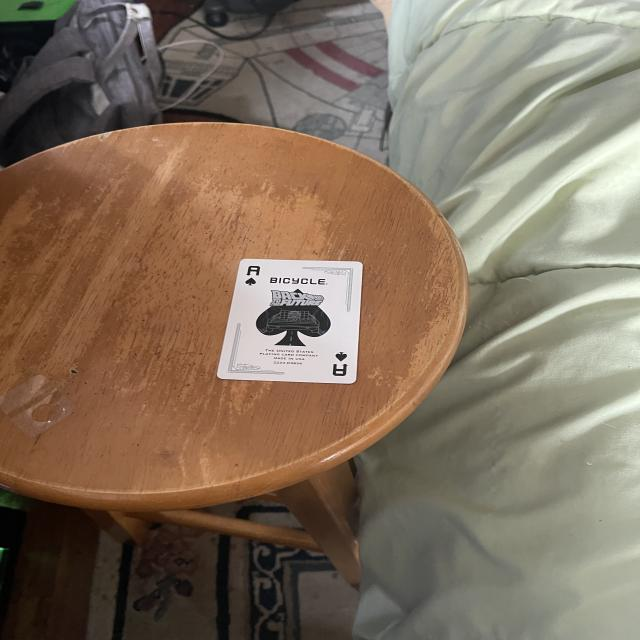Ace of spades: (218, 259, 362, 383)
